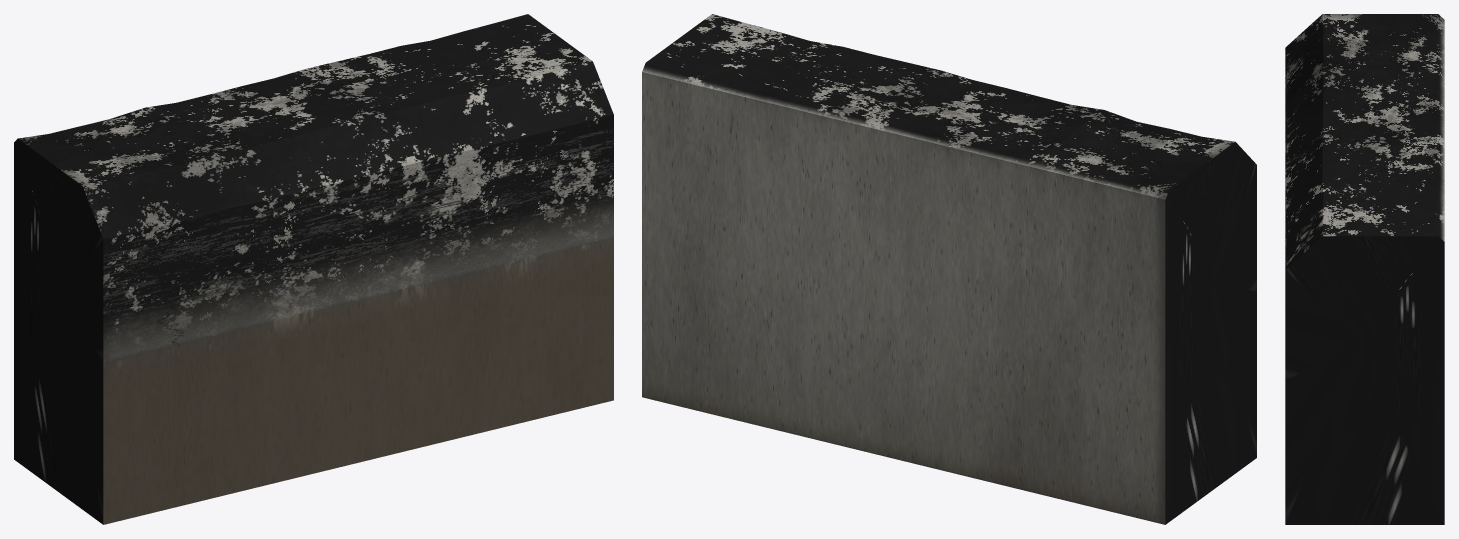
Rendered from curb_half_black_web.glb.
3 views of the same model, side by side, from view 1: azimuth 30°, elevation 25°; view 2: azimuth 150°, elevation 25°; view 3: azimuth 270°, elevation 25° (orthographic). The views are drawn at different scales.
Visible parts, largest first — view 1: curb_half_black_Mesh; view 2: curb_half_black_Mesh; view 3: curb_half_black_Mesh.
Boxes of the visible parts, x1,y1,x2,y2 form: curb_half_black_Mesh: (14,14,613,524); curb_half_black_Mesh: (642,14,1256,524); curb_half_black_Mesh: (1285,14,1444,524).
Bounding box in the file's own units: 0.495 × 0.3 × 0.15.
1 material, 1 textured.
